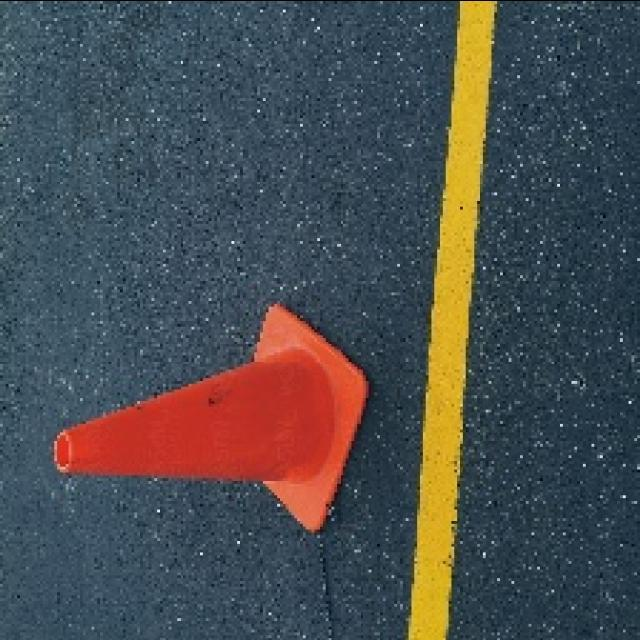traffic cone: (52, 302, 371, 535)
